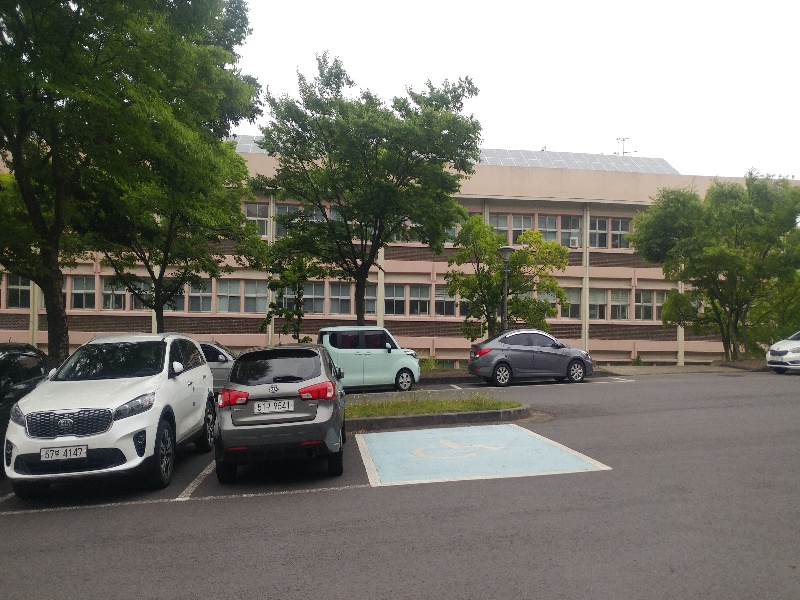College Of Education: (1, 152, 786, 323)
